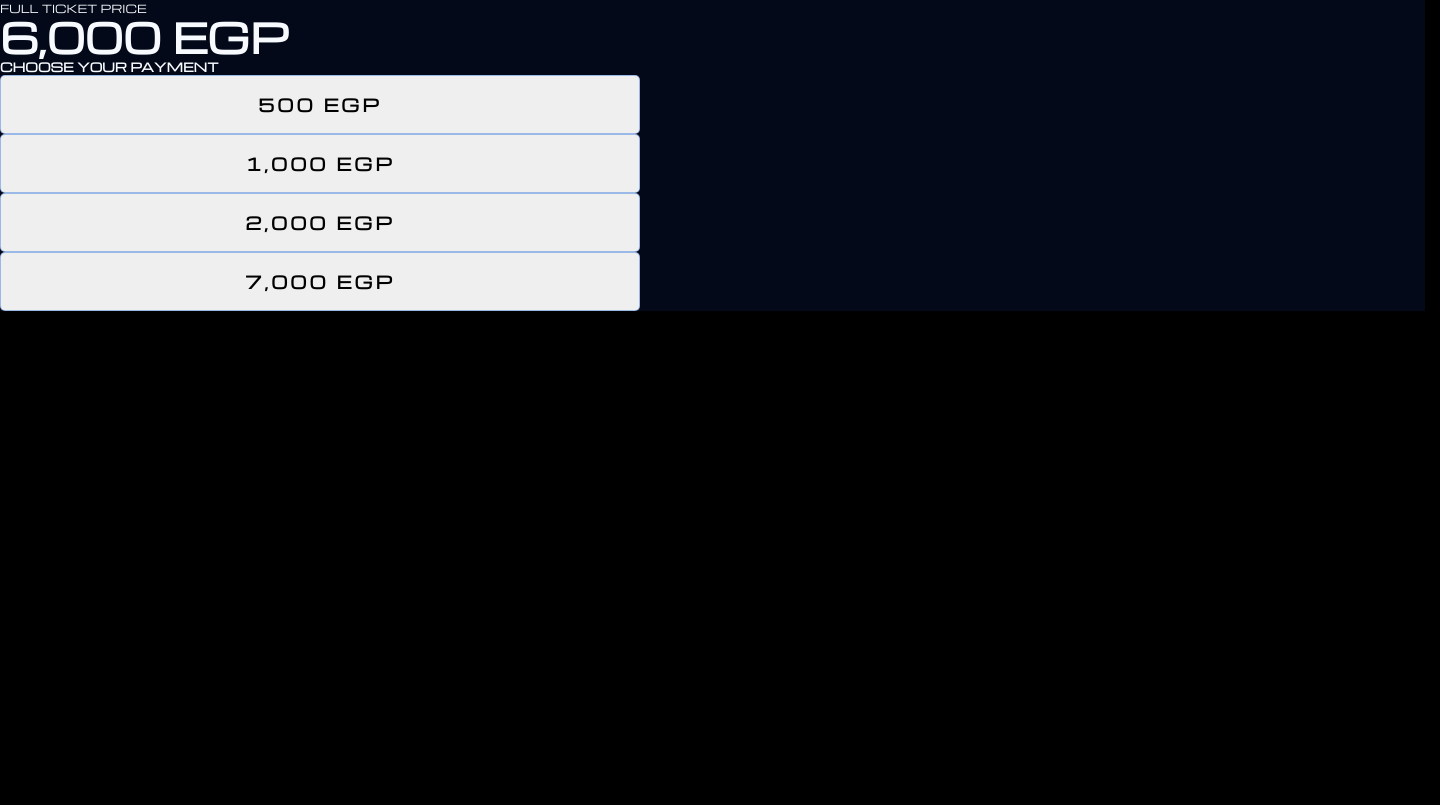
Test case: payment options (school-specific, never limited by the ticket price) › every option is shown and selectable — including 7,000 EGP above a 6,000 EGP ticket
Expected: the radio button labelled "500 EGP" is enabled, [0, 75, 640, 134]
Expected: the radio button labelled "1,000 EGP" is enabled, [0, 134, 640, 193]
Click the radio button labelled "7,000 EGP" at x=320, y=282, box [0, 252, 640, 311]
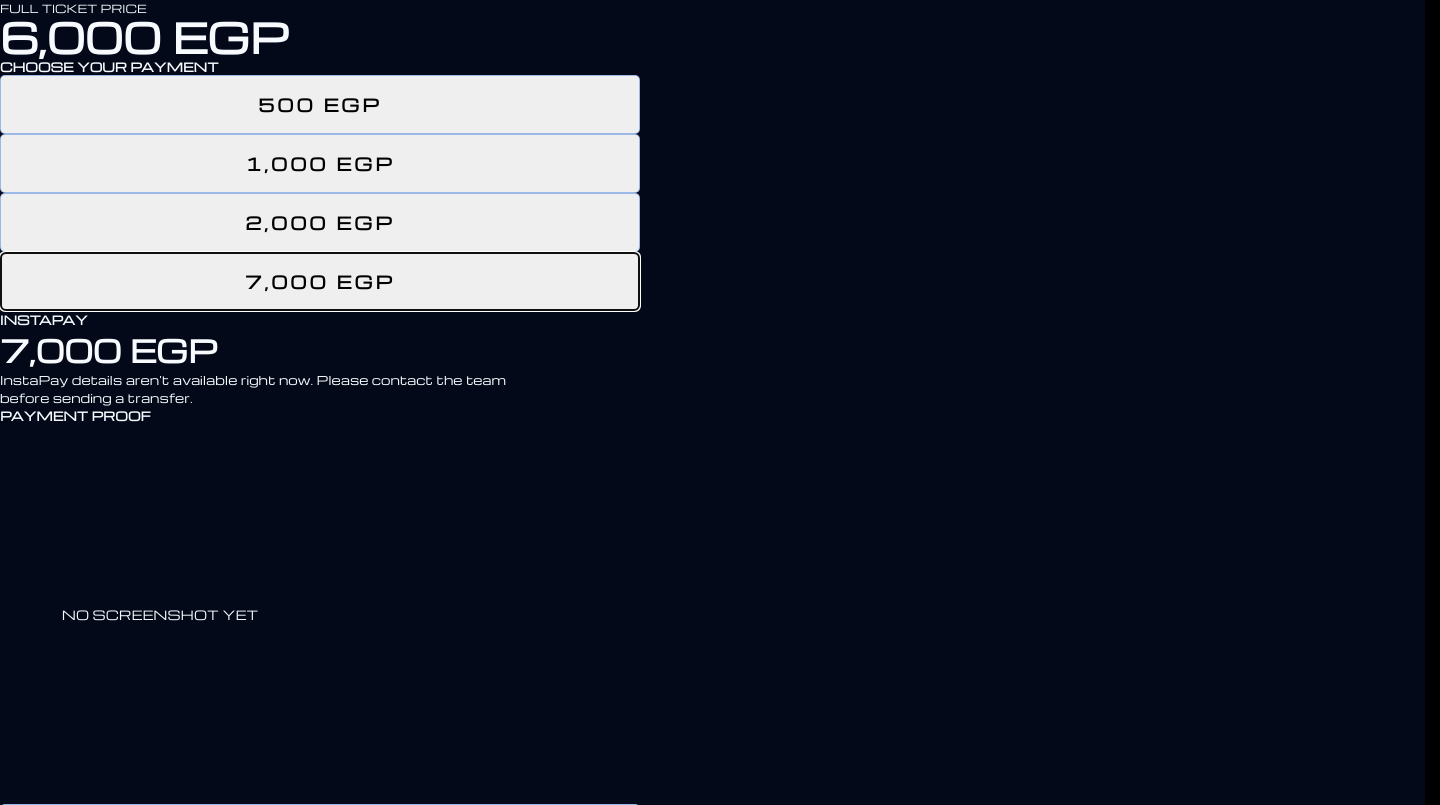
Expected: the text "InstaPay" is shown, [0, 311, 88, 328]
